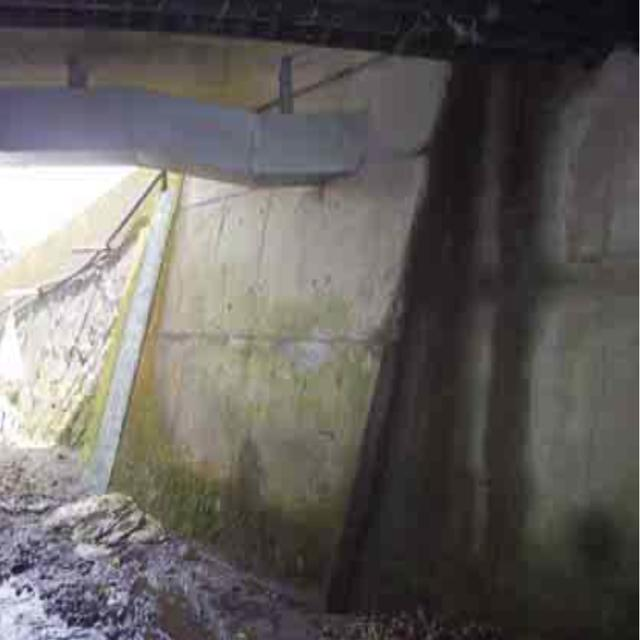leakage: (362, 33, 527, 606)
